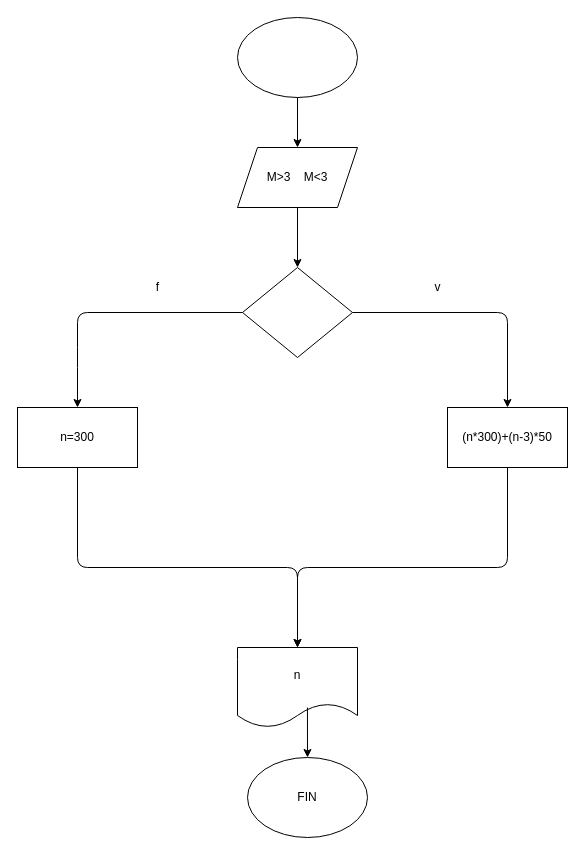
Some shapes in this 585 by 855 pixel diagram are drawn without their labels. The centre of each missing label's shape, as x and y in pixels:
"INICIO" belongs at (297,57).
"m>3" belongs at (297,312).
